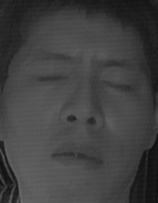blink: (97, 70, 137, 98), (31, 67, 71, 88)
mouth: (49, 138, 107, 175)
